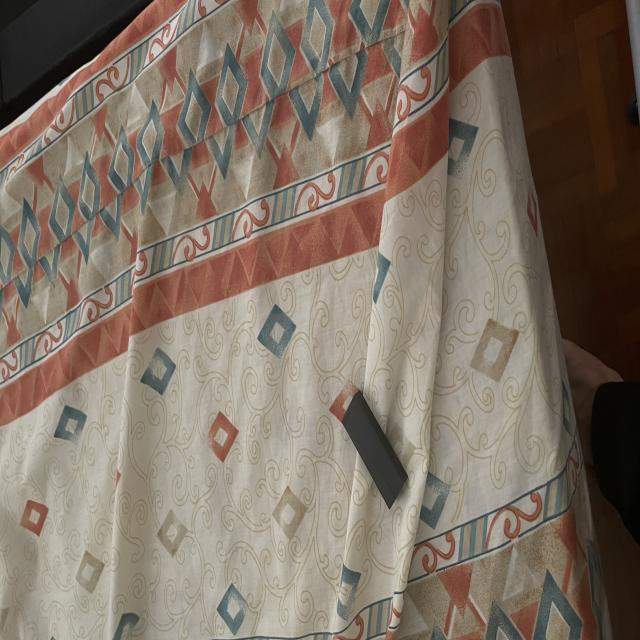eraser: (342, 390, 408, 509)
